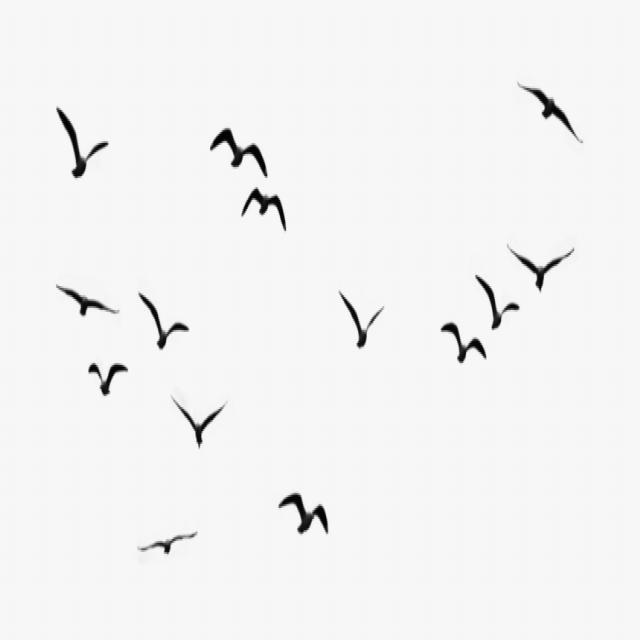bird: (516, 64, 588, 163), (50, 95, 114, 189), (506, 234, 580, 304), (167, 386, 231, 464), (136, 280, 192, 364), (336, 274, 389, 362), (55, 275, 122, 342), (468, 264, 521, 344), (278, 476, 333, 552), (438, 309, 491, 386), (207, 120, 272, 182), (142, 510, 202, 576), (240, 181, 296, 249), (83, 353, 138, 421)
